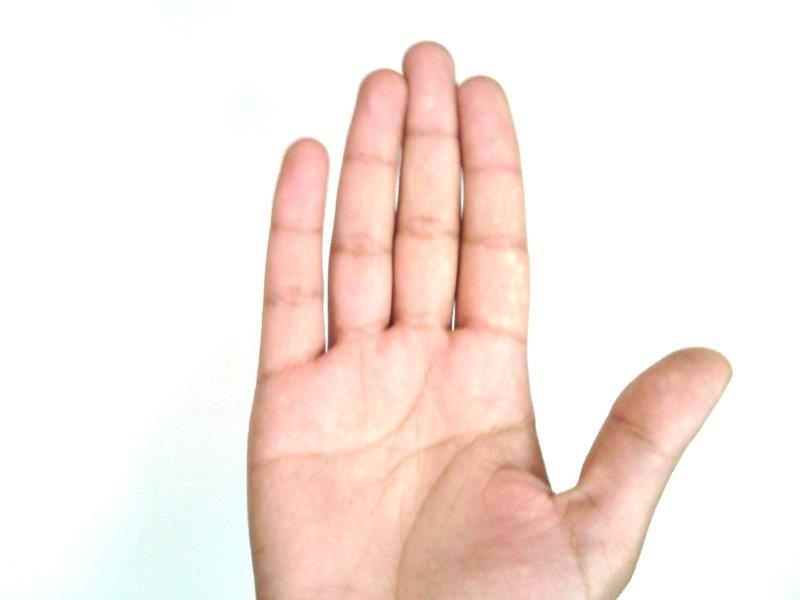hand: (249, 44, 734, 600)
